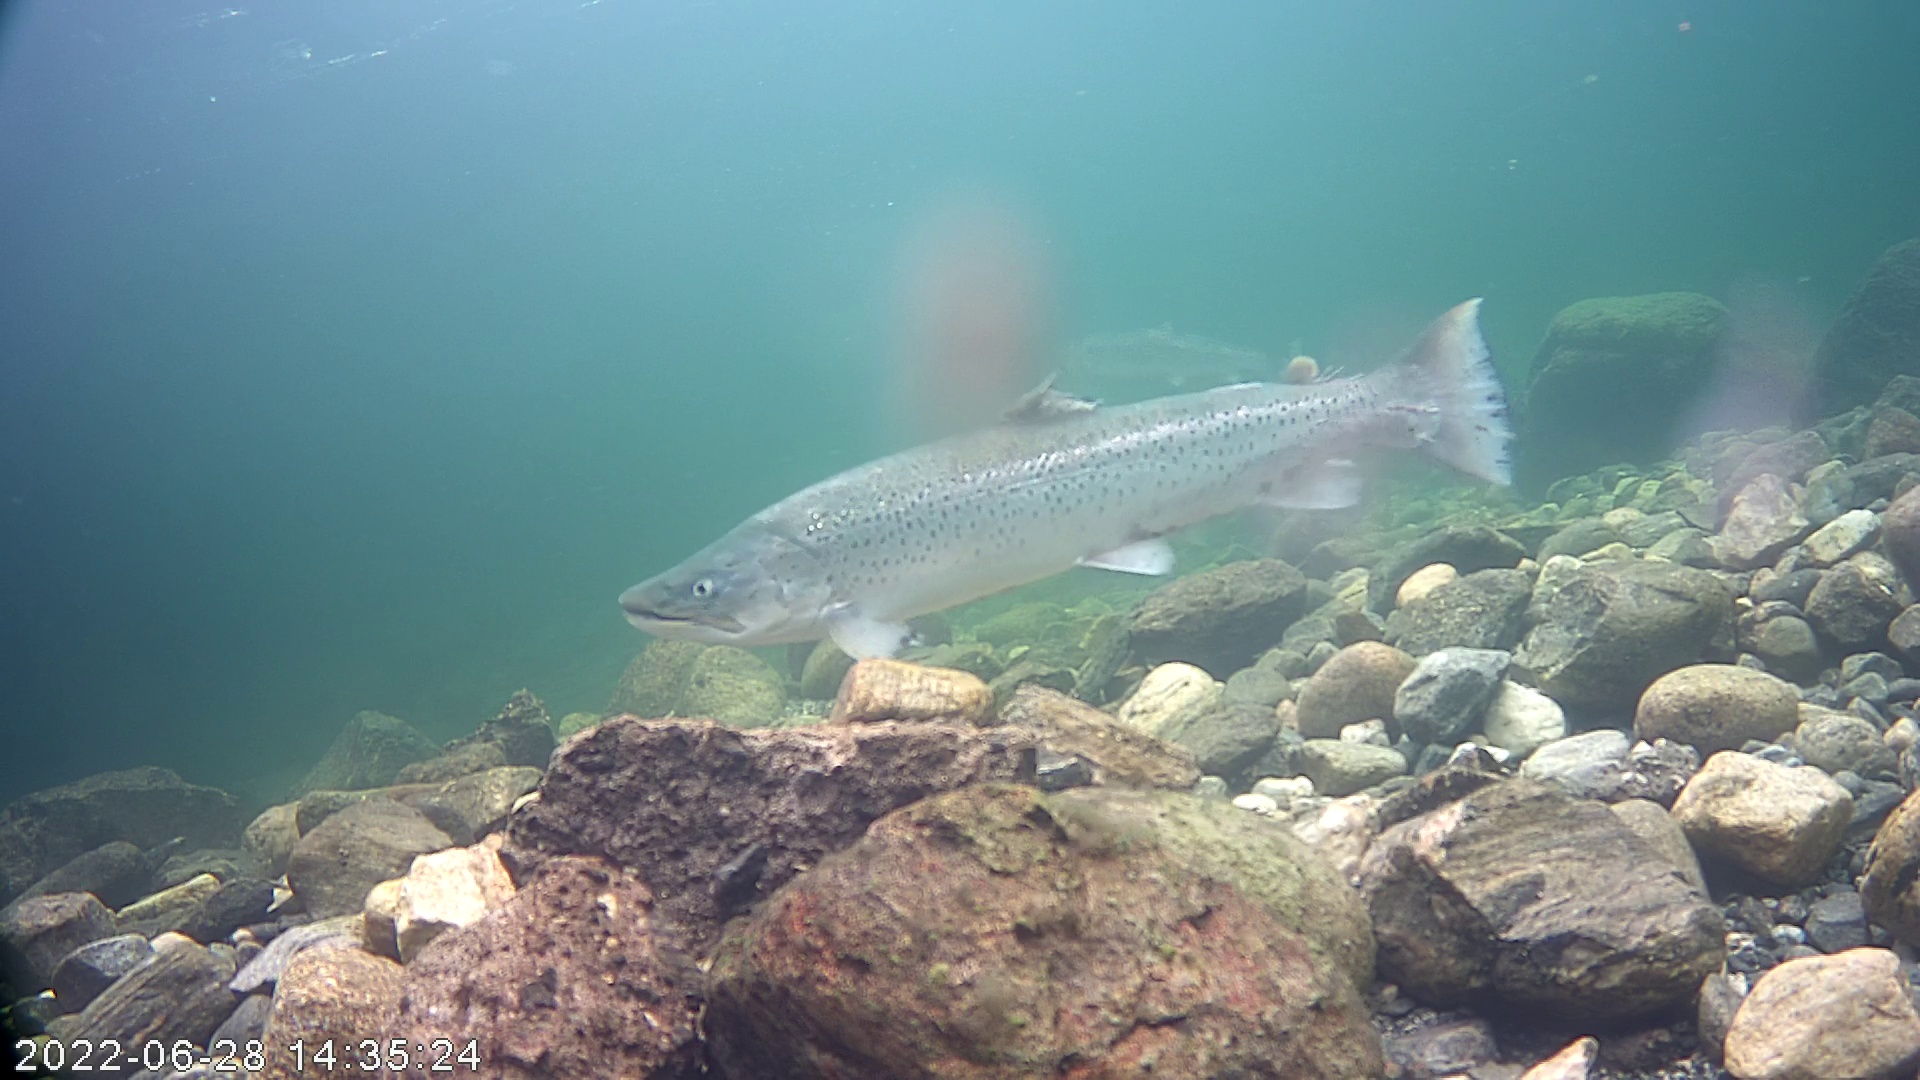salmon: (636, 235, 1543, 674)
